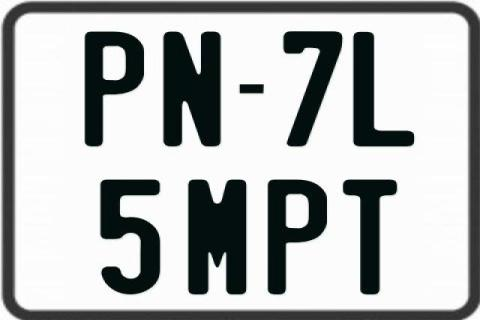0: (98, 177, 162, 297), (284, 31, 344, 149)
L: (352, 32, 413, 147)
M: (188, 178, 248, 292)
N: (162, 31, 225, 148)
P: (85, 31, 148, 147), (268, 178, 327, 296)
T: (342, 180, 398, 297)
